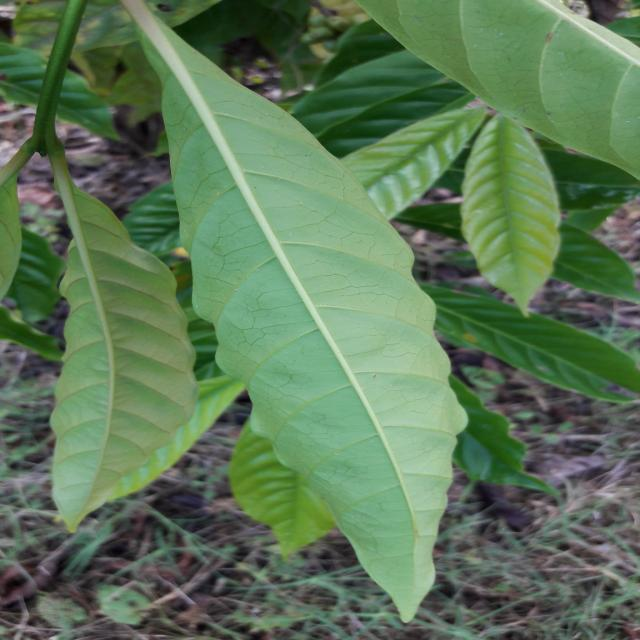Sanas: (118, 0, 468, 624)
